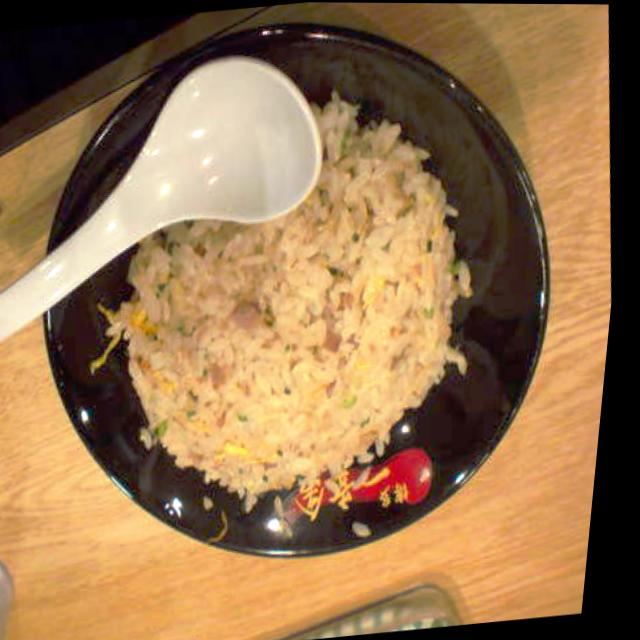rice: (57, 77, 514, 529)
